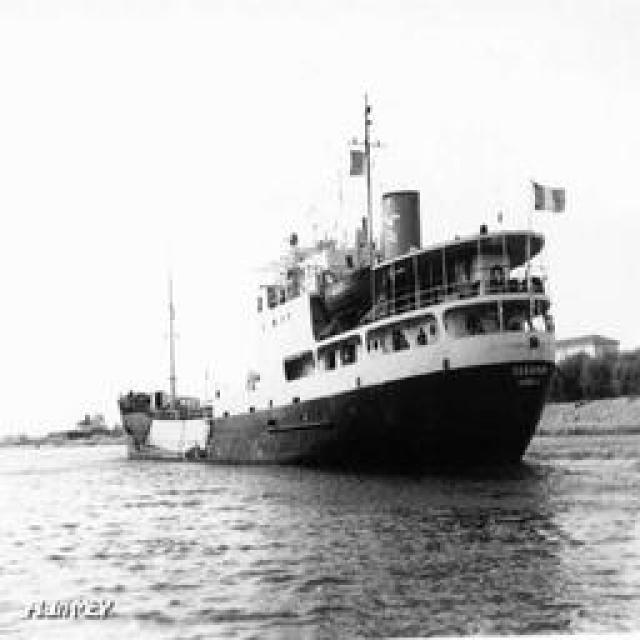Ship: (149, 219, 559, 474)
